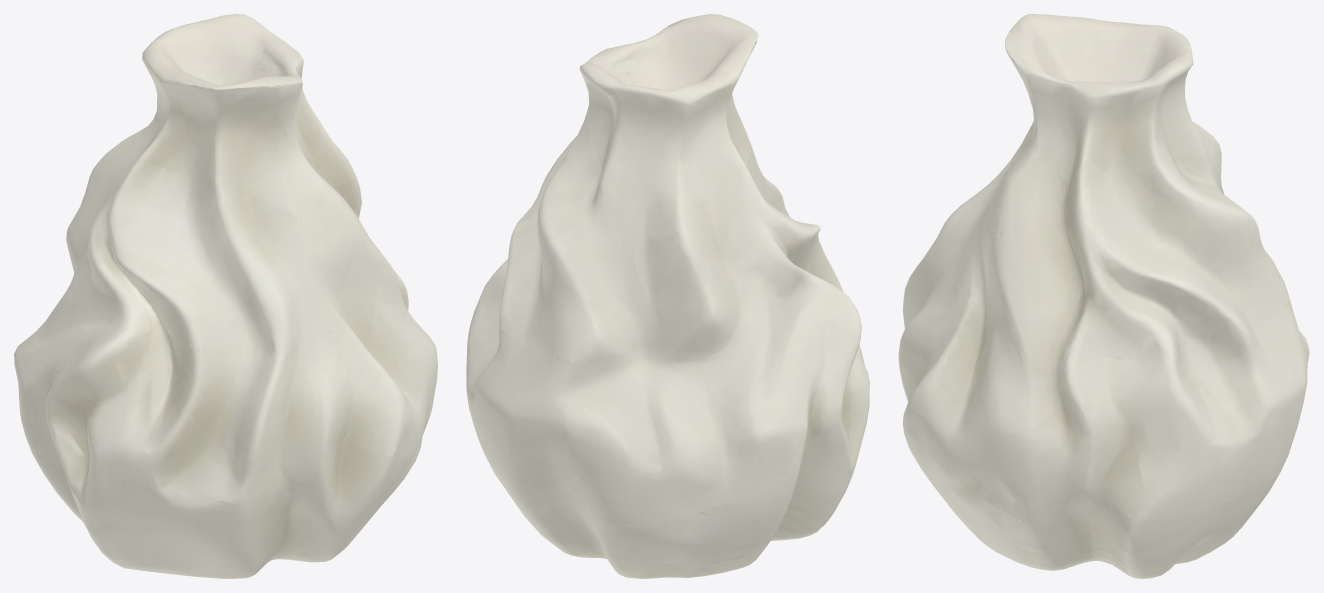
The model's file is Spring Vase.glb.
3 renders of one model, left to right at view 1: azimuth 30°, elevation 25°; view 2: azimuth 150°, elevation 25°; view 3: azimuth 270°, elevation 25°, orthographic.
Parts seen in each view (by area): view 1: mesh_node; view 2: mesh_node; view 3: mesh_node.
Boxes of the visible parts, x1,y1,x2,y2 form: mesh_node: (14, 14, 437, 578); mesh_node: (466, 14, 869, 578); mesh_node: (898, 14, 1309, 578).
Bounding box in the file's own units: 1.44 × 1.9 × 1.45.
Materials: 1 (1 with a texture image).
